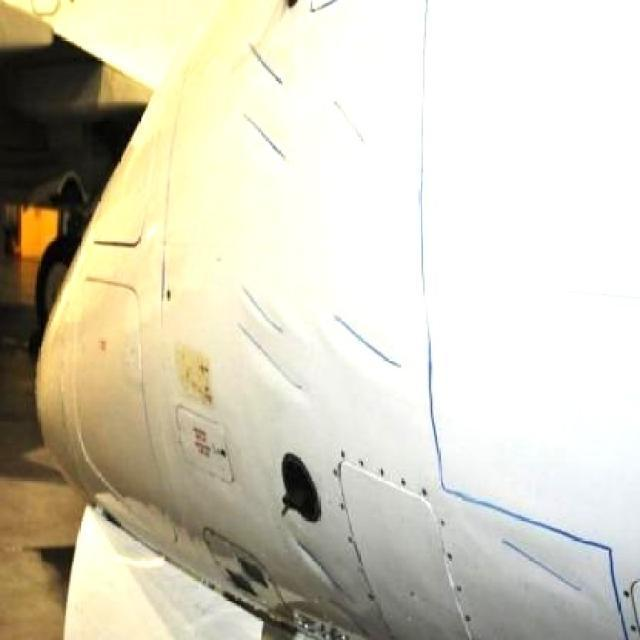dent: (486, 531, 591, 604), (234, 325, 311, 391), (332, 311, 406, 371), (246, 111, 302, 168), (303, 551, 352, 604), (237, 272, 283, 328), (242, 34, 288, 89)
